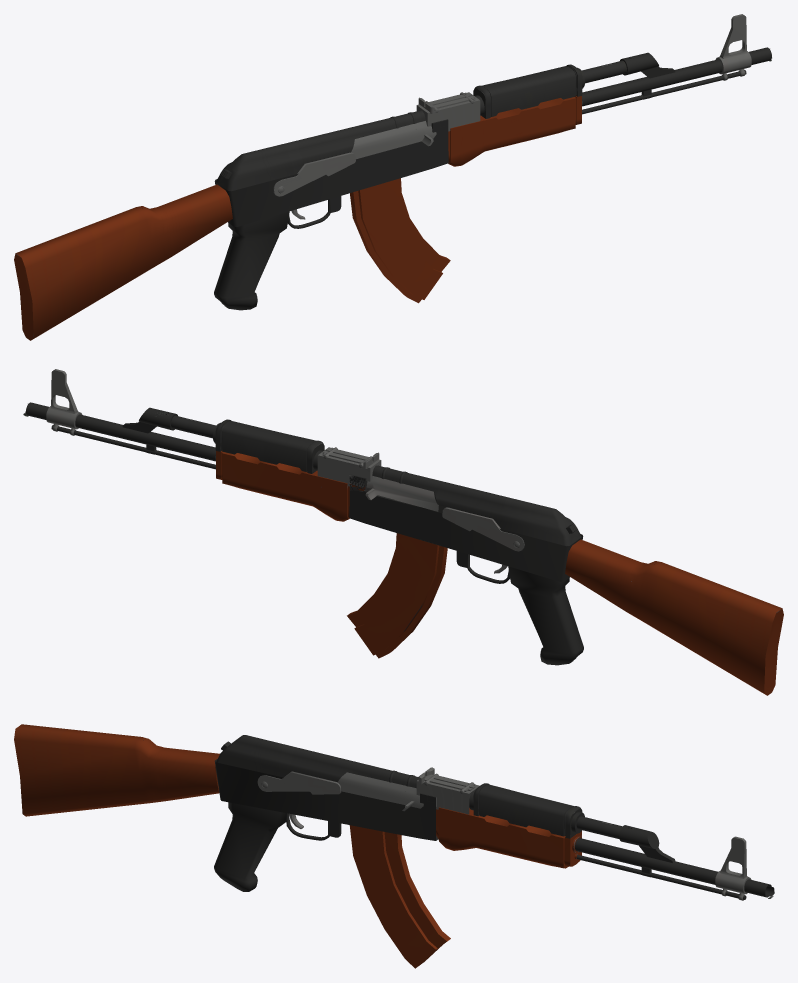
The picture shows the model from 3 angles, top to bottom: view 1: azimuth 30°, elevation 25°; view 2: azimuth 150°, elevation 25°; view 3: azimuth 330°, elevation 25°; orthographic projection.
Parts seen in each view (by area): view 1: AK-47.003, AK-47.005, AK-47.008, AK-47.006, AK-47.002, AK-47.007, AK-47.004, AK-47.009, AK-47.011; view 2: AK-47.003, AK-47.005, AK-47.008, AK-47.006, AK-47.002, AK-47.004, AK-47.007, AK-47.009, AK-47.011; view 3: AK-47.003, AK-47.005, AK-47.008, AK-47.006, AK-47.002, AK-47.007, AK-47.004, AK-47.009, AK-47.011.
Part boxes in pixels (x1,y1,x2,y2): AK-47.003: (14,96,582,340); AK-47.005: (214,47,771,310); AK-47.008: (350,178,450,303); AK-47.006: (216,110,425,191); AK-47.002: (473,60,626,118); AK-47.007: (351,121,436,159); AK-47.004: (416,92,480,131); AK-47.009: (273,152,355,196); AK-47.011: (715,14,751,80); AK-47.003: (215,451,783,695); AK-47.005: (26,402,583,665); AK-47.008: (347,533,447,658); AK-47.006: (366,465,581,546); AK-47.002: (171,415,324,473); AK-47.004: (317,447,381,486); AK-47.007: (364,476,438,511); AK-47.009: (442,507,524,551); AK-47.011: (46,369,82,435); AK-47.003: (14,724,581,868); AK-47.005: (214,758,774,899); AK-47.008: (349,825,450,968); AK-47.006: (216,735,418,787); AK-47.002: (469,783,622,839); AK-47.007: (337,772,423,811); AK-47.004: (416,767,479,814); AK-47.009: (257,771,341,794); AK-47.011: (715,836,751,900).
Bounding box in the file's own units: 6299 × 1641 × 358.
